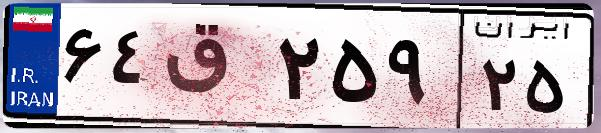2: (270, 28, 330, 110), (475, 38, 525, 113)
4: (110, 28, 158, 98)
5: (330, 28, 385, 110), (525, 38, 570, 115)
6: (57, 26, 110, 100)
9: (385, 28, 445, 110)
ق: (158, 20, 270, 120)
